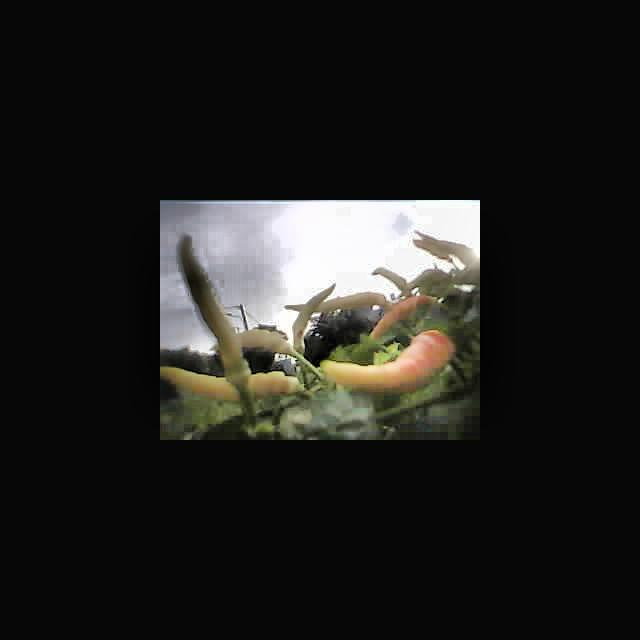Cabai: (311, 329, 454, 395), (358, 290, 440, 337)
